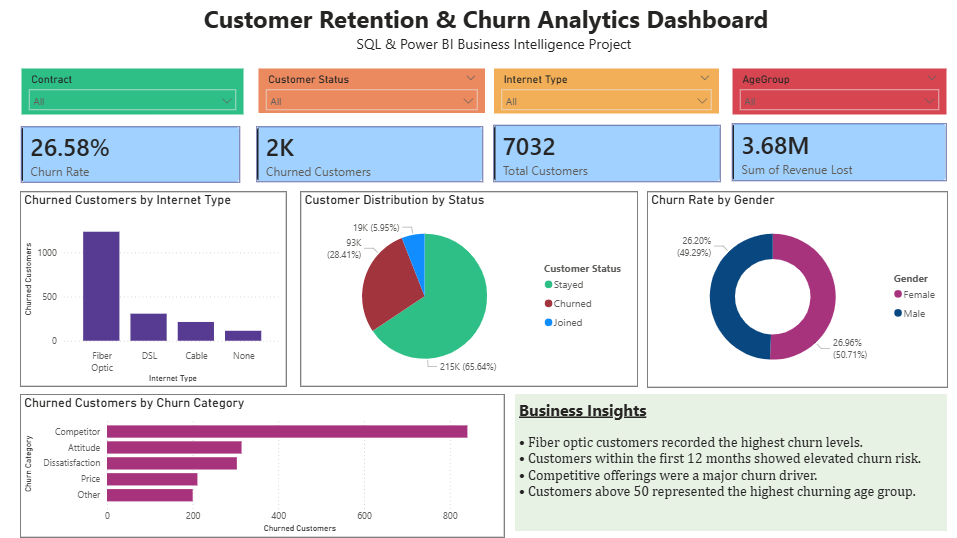

The page's visual inventory and layout, read from the dashboard file:
{"tool":"powerbi","page":{"name":"Page 1","canvas":[1280,720],"ordinal":0},"visuals":[{"type":"cardVisual","fields":{"Data":["Churn_analysis_view.Total Customers","Churn_analysis_view.Total Customers"]},"box":[641,151,337,110],"z":0},{"type":"cardVisual","fields":{"Data":["Churn_analysis_view.Churned Customers"]},"box":[325,153,336,108],"z":1000},{"type":"cardVisual","fields":{"Data":["Churn_analysis_view.Churn Rate"]},"box":[12,153,326,109],"z":2000},{"type":"clusteredColumnChart","fields":{"Category":["Churn_analysis_view.Internet Type"],"Y":["Churn_analysis_view.Churned Customers"]},"box":[28.8,257.5,355,260],"z":3000},{"type":"textbox","box":[268.8,0,783.7,82.6],"z":4000},{"type":"textbox","box":[688.8,528.8,576.2,182.5],"z":5000},{"type":"donutChart","fields":{"Category":["Churn_analysis_view.Gender"],"Y":["Churn_analysis_view.Churn Rate"]},"box":[863.8,258.8,401.2,261.2],"z":6000},{"type":"pieChart","title":"Customer Distribution by Status","fields":{"Category":["Churn_analysis_view.Customer Status"],"Y":["Sum(Churn_analysis_view.Age)"]},"box":[401.2,257.5,450,260],"z":7000},{"type":"slicer","fields":{"Values":["Churn_analysis_view.Contract"]},"box":[29.1,93.9,296.3,61.5],"z":8000},{"type":"slicer","fields":{"Values":["Churn_analysis_view.Internet Type"]},"box":[660,93.3,300,60],"z":9000},{"type":"slicer","fields":{"Values":["Churn_analysis_view.Customer Status"]},"box":[345,93,302,59],"z":10000},{"type":"slicer","fields":{"Values":["Churn_analysis_view.AgeGroup"]},"box":[978,93,285,62],"z":11000},{"type":"cardVisual","fields":{"Data":["Sum(Churn_analysis_view.Revenue Lost)"]},"box":[960,150,320,111.7],"z":12000},{"type":"clusteredBarChart","fields":{"Category":["Churn_analysis_view.Churn Category"],"Y":["Churn_analysis_view.Churned Customers"]},"box":[28.8,528.8,646.2,191.2],"z":13000}]}

Visuals, with their boxes in screenshot pixels (x1, y1, x2, y2), scaled from the page's 1280x720 canvas onto the 957x538 screenshot:
cardVisual - Churn_analysis_view.Total Customers x Churn_analysis_view.Total Customers: [x1=479, y1=113, x2=731, y2=195]
cardVisual - Churn_analysis_view.Churned Customers: [x1=243, y1=114, x2=494, y2=195]
cardVisual - Churn_analysis_view.Churn Rate: [x1=9, y1=114, x2=253, y2=196]
clusteredColumnChart - Churn_analysis_view.Internet Type x Churn_analysis_view.Churned Customers: [x1=22, y1=192, x2=287, y2=387]
textbox: [x1=201, y1=0, x2=787, y2=62]
textbox: [x1=515, y1=395, x2=946, y2=531]
donutChart - Churn_analysis_view.Gender x Churn_analysis_view.Churn Rate: [x1=646, y1=193, x2=946, y2=389]
"Customer Distribution by Status" pieChart: [x1=300, y1=192, x2=636, y2=387]
slicer - Churn_analysis_view.Contract: [x1=22, y1=70, x2=243, y2=116]
slicer - Churn_analysis_view.Internet Type: [x1=493, y1=70, x2=718, y2=115]
slicer - Churn_analysis_view.Customer Status: [x1=258, y1=69, x2=484, y2=114]
slicer - Churn_analysis_view.AgeGroup: [x1=731, y1=69, x2=944, y2=116]
cardVisual - Sum(Churn_analysis_view.Revenue Lost): [x1=718, y1=112, x2=956, y2=196]
clusteredBarChart - Churn_analysis_view.Churn Category x Churn_analysis_view.Churned Customers: [x1=22, y1=395, x2=505, y2=537]
